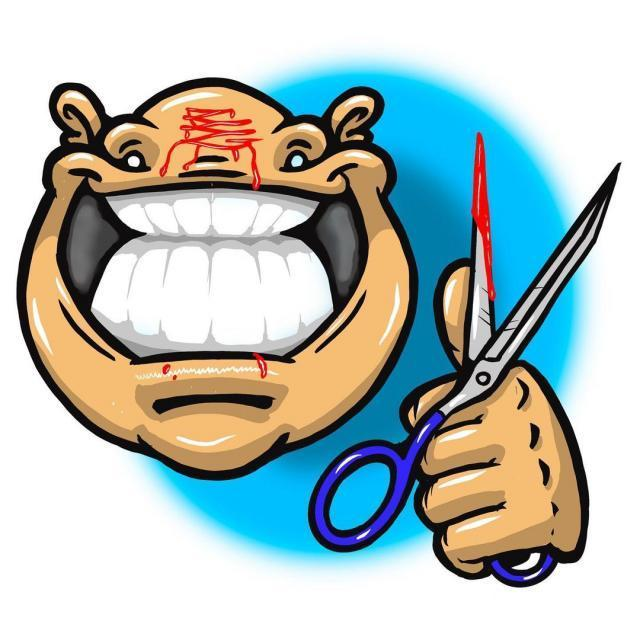-: (19, 65, 632, 603)
